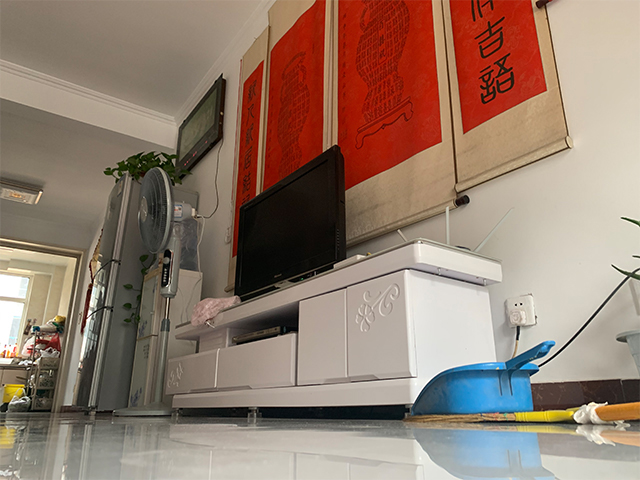cabinet: (164, 237, 505, 419)
